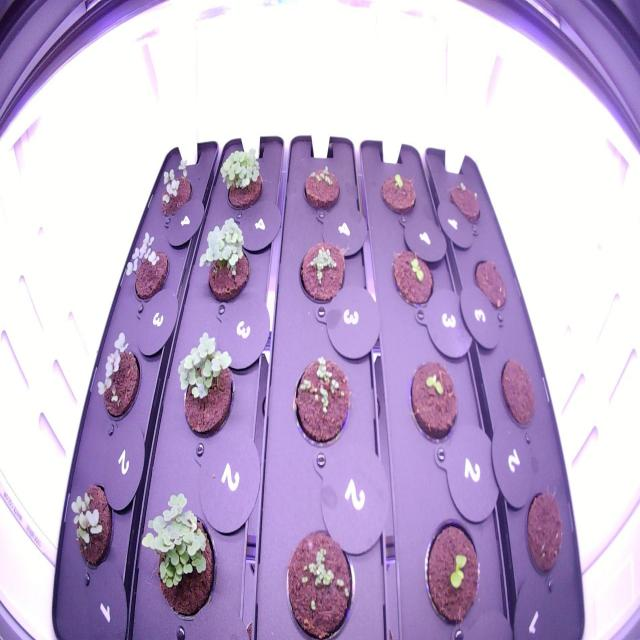germination: (140, 479, 226, 625), (278, 518, 359, 638), (418, 507, 485, 631), (173, 325, 236, 449), (284, 350, 354, 447), (194, 211, 252, 306), (404, 352, 460, 449), (66, 479, 118, 578), (91, 328, 143, 426), (118, 228, 172, 308), (214, 140, 269, 214), (294, 236, 348, 308), (387, 245, 437, 315), (149, 152, 195, 224), (444, 173, 486, 232), (298, 159, 342, 214), (375, 168, 419, 216)
pod: (520, 479, 566, 585), (496, 351, 540, 433), (467, 248, 509, 317)
